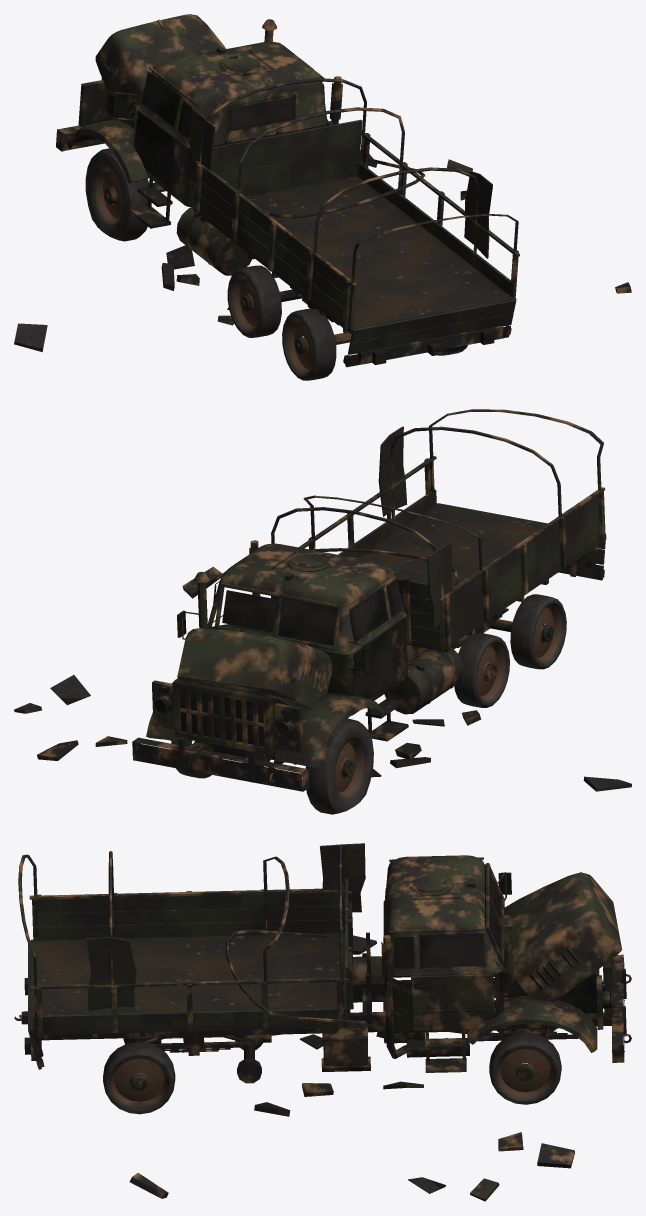
File: truck_destroyed.glb
The picture shows the model from 3 angles, top to bottom: view 1: azimuth 30°, elevation 25°; view 2: azimuth 150°, elevation 25°; view 3: azimuth 270°, elevation 25°; orthographic projection. The views are drawn at different scales.
Visible parts, largest first — view 1: body, debris; view 2: body, debris; view 3: body, debris.
Part boxes in pixels (x1,y1,x2,y2): body: (56,14,519,380); debris: (14,150,631,352); body: (132,409,606,814); debris: (14,566,631,791); body: (14,843,631,1114); debris: (129,935,574,1201).
Bounding box in the file's own units: 7.8 × 2.99 × 7.84.
Materials: 1 (1 with a texture image).
